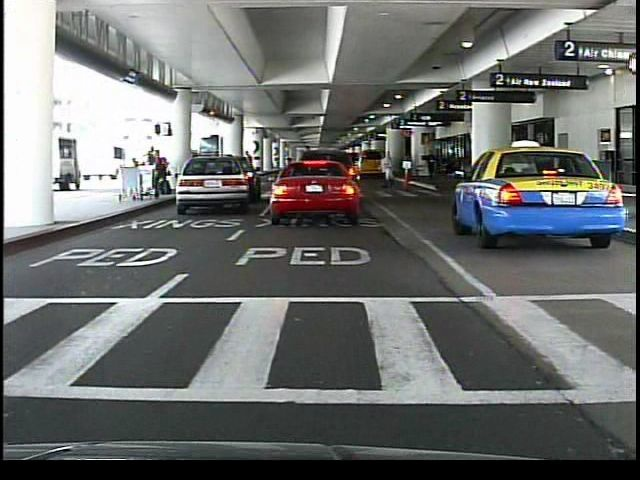person: (238, 145, 259, 202), (275, 154, 297, 207), (150, 146, 165, 196), (301, 151, 315, 203), (380, 150, 395, 188), (426, 149, 438, 181)
